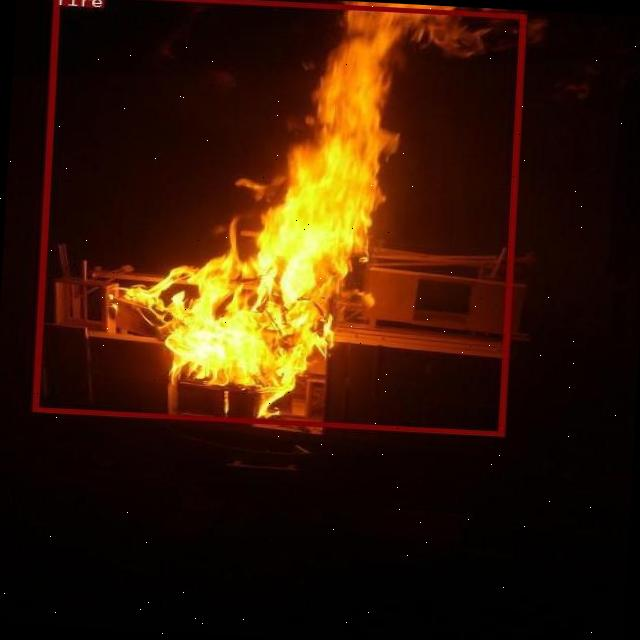fire: (32, 0, 525, 435)
